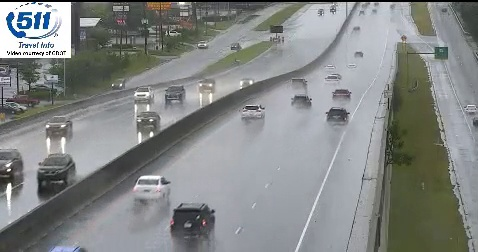car: (171, 203, 215, 238), (132, 175, 168, 201), (241, 104, 264, 120), (326, 108, 347, 125), (291, 95, 311, 108), (332, 89, 350, 103)
